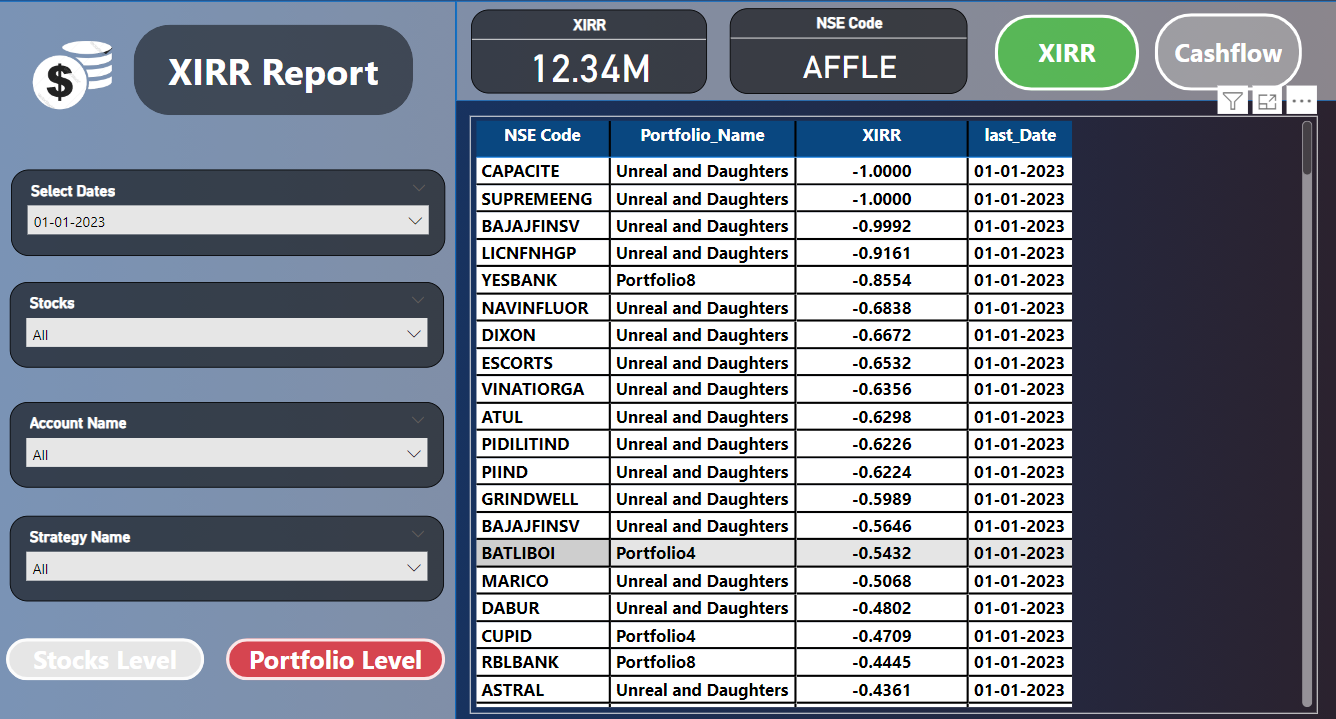

The dashboard page shown, as its layout file describes it:
{"tool":"powerbi","page":{"name":"Final_Dashboard_Stockwise","canvas":[1280,720],"ordinal":0},"visuals":[{"type":"shape","box":[438.2,27.3,841.6,95.6],"z":1000},{"type":"shape","box":[0,27.3,438.2,693.9],"z":2000},{"type":"card","title":"XIRR","fields":{"Values":["Sum(Active Xirr_report (2).XIRR)"]},"box":[451.8,35.5,224.5,80],"z":3000},{"type":"card","title":"NSE Code","fields":{"Values":["Min(Active Xirr_report (2).NSE Code)"]},"box":[698.3,35,226.7,81.7],"z":4000},{"type":"actionButton","box":[951.2,40,137.5,72.5],"z":5000},{"type":"actionButton","box":[1103.3,39,140.3,73.7],"z":6000},{"type":"slicer","fields":{"Values":["BridgeTable_Dates.last_Date"]},"box":[13.3,185,413.3,81.7],"z":7000},{"type":"tableEx","fields":{"Values":["Active CashFlow_Xirr_report.Date","Active CashFlow_Xirr_report.Stock","Active CashFlow_Xirr_report.Trans. Type","Active CashFlow_Xirr_report.Cash Flow","Active CashFlow_Xirr_report.Quantity Left"]},"box":[451.7,136.7,806.7,568.3],"z":8000},{"type":"slicer","fields":{"Values":["Active Xirr_report (2).NSE Code"]},"box":[13.3,295,413.3,81.7],"z":9000},{"type":"slicer","fields":{"Values":["Active strategymaster.Strategy_Name"]},"box":[13.3,518.3,413.3,81.7],"z":10000},{"type":"slicer","fields":{"Values":["Active Xirr_report (2).Portfolio_Name"]},"box":[13.3,410,413.3,81.7],"z":11000},{"type":"image","box":[0,0,145,206.7],"z":12000},{"type":"actionButton","box":[128.3,50,266.7,86.7],"z":13000},{"type":"actionButton","box":[10,635,188.8,40],"z":16000},{"type":"actionButton","box":[218.8,635,208.8,40],"z":17000}]}

Visuals, with their boxes on the page's 1280x720 design canvas (x1, y1, x2, y2). These are canvas units, not pixel positions in the 1336x719 screenshot, which may show the page scaled, cropped or inside an application window:
shape: bbox(438, 27, 1280, 123)
shape: bbox(0, 27, 438, 721)
"XIRR" card: bbox(452, 36, 676, 116)
"NSE Code" card: bbox(698, 35, 925, 117)
actionButton: bbox(951, 40, 1089, 112)
actionButton: bbox(1103, 39, 1244, 113)
slicer - BridgeTable_Dates.last_Date: bbox(13, 185, 427, 267)
tableEx - Active CashFlow_Xirr_report.Date x Active CashFlow_Xirr_report.Stock: bbox(452, 137, 1258, 705)
slicer - Active Xirr_report (2).NSE Code: bbox(13, 295, 427, 377)
slicer - Active strategymaster.Strategy_Name: bbox(13, 518, 427, 600)
slicer - Active Xirr_report (2).Portfolio_Name: bbox(13, 410, 427, 492)
image: bbox(0, 0, 145, 207)
actionButton: bbox(128, 50, 395, 137)
actionButton: bbox(10, 635, 199, 675)
actionButton: bbox(219, 635, 428, 675)
